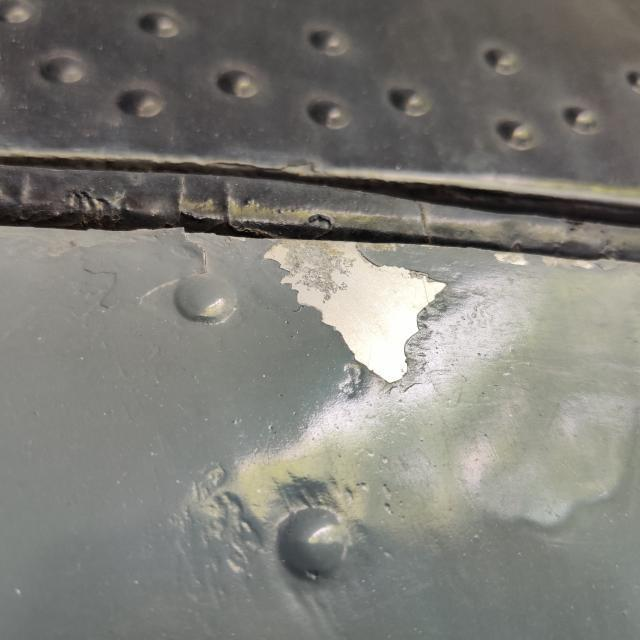Paint-off: (265, 240, 446, 382)
